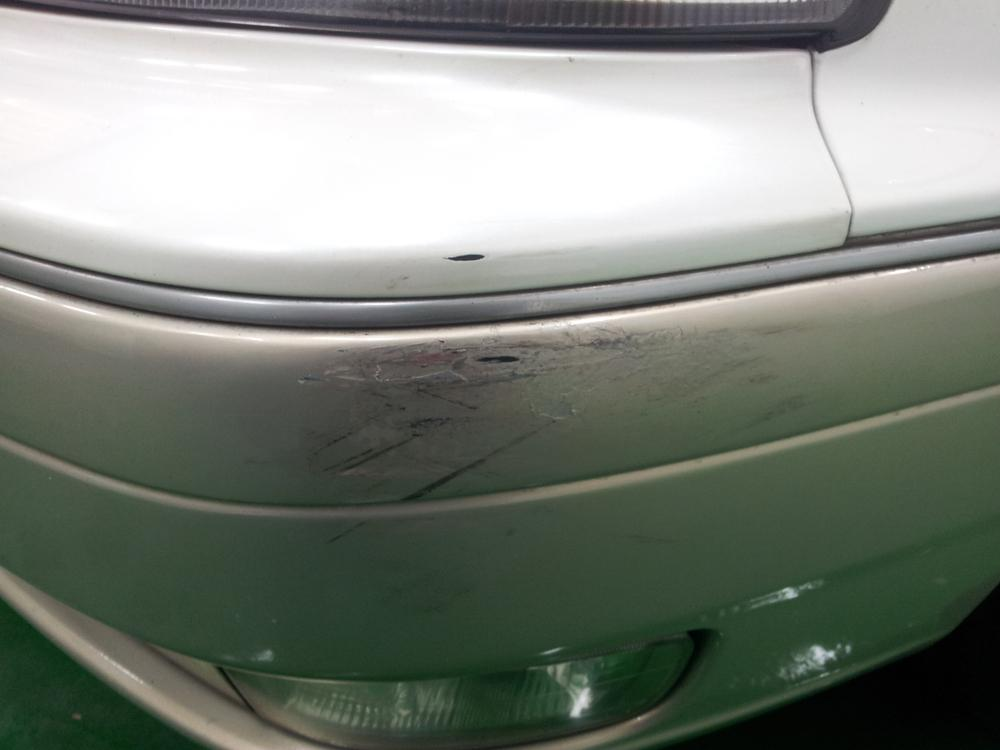scratch: (300, 240, 855, 541)
